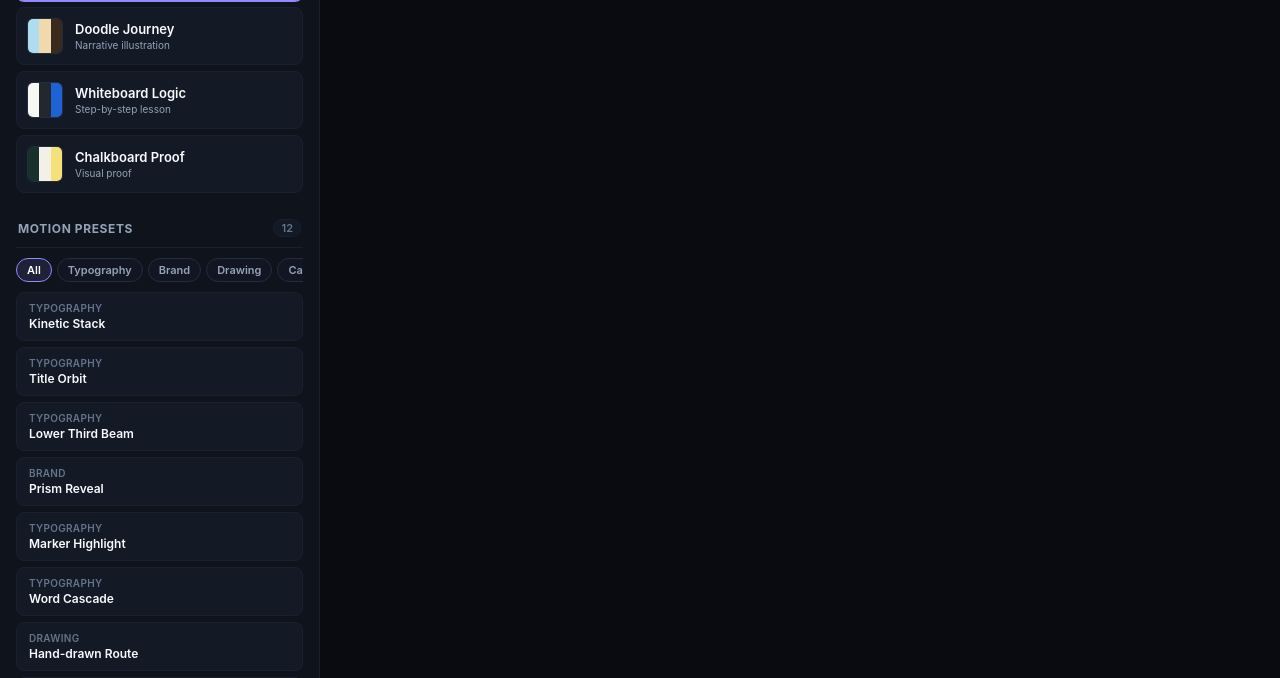
Test case: local visual library › resets preset controls to the preset defaults when another preset is chosen
(page scrolled)
Click the button "Typography Kinetic Stack": (66, 308) [16,292,303,341]
(page scrolled)
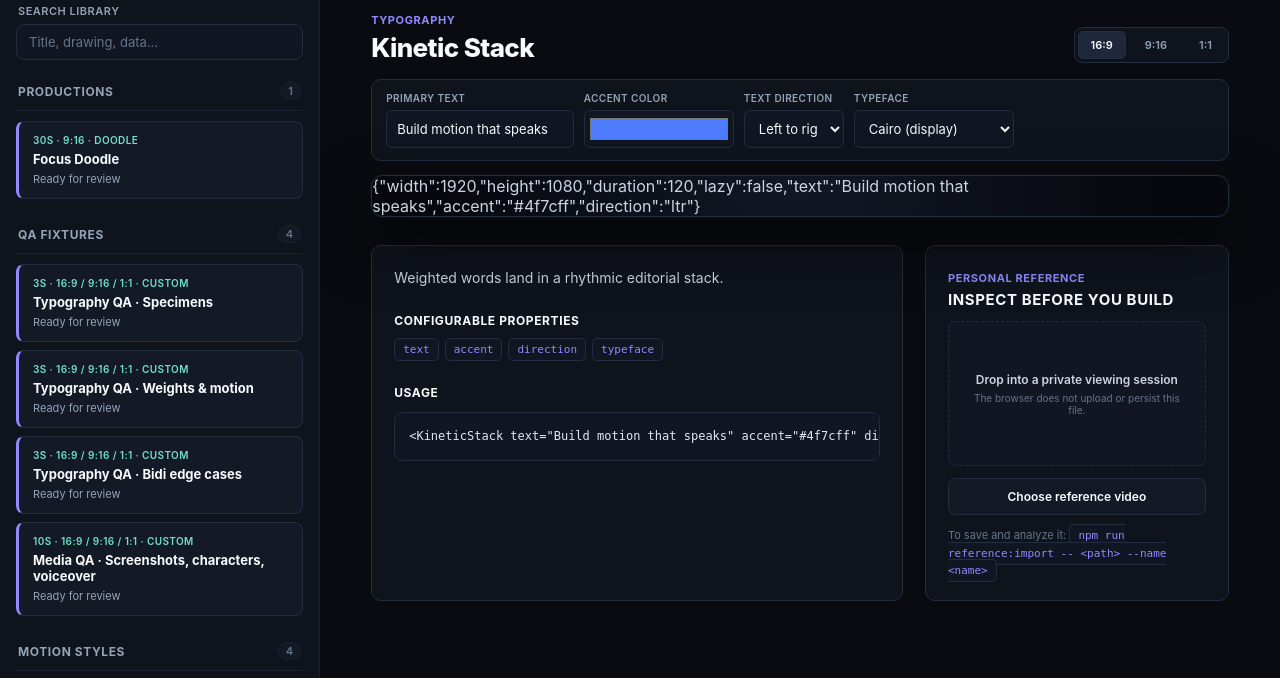
Replace the text in the field labelled "Primary text" with "temporary": (480, 129) [386,110,574,148]
(page scrolled)
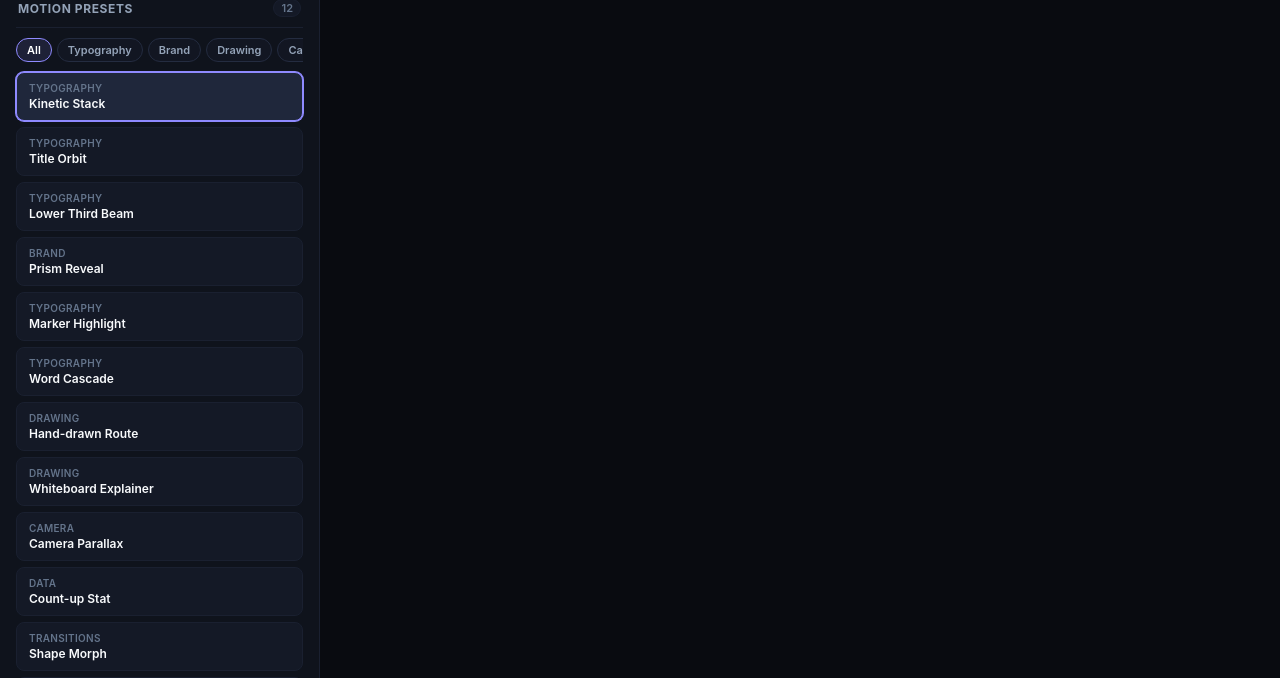
Click the button "Typography Marker Highlight": (66, 308) [16,292,303,341]
(page scrolled)
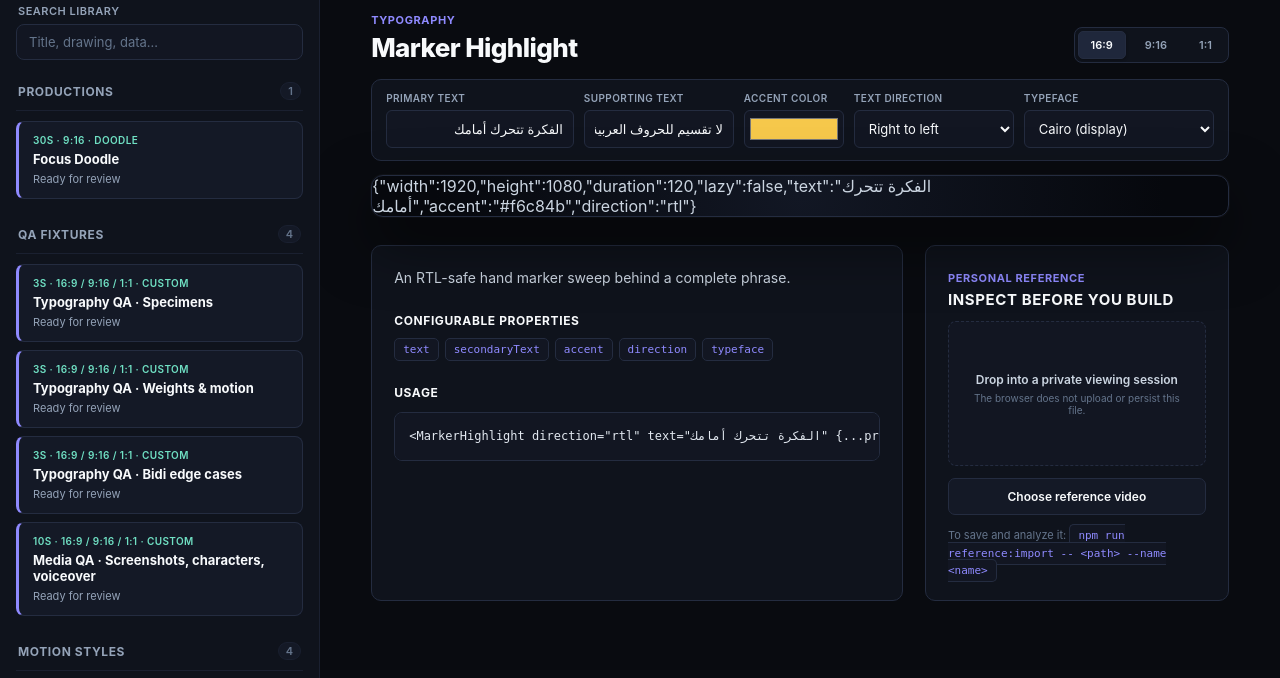
Check: the field labelled "Primary text" holds "الفكرة تتحرك أمامك", box [386,110,574,148]
Check: the text named "Animation preview" shows "\"direction\":\"rtl\"", box [372,176,931,216]
